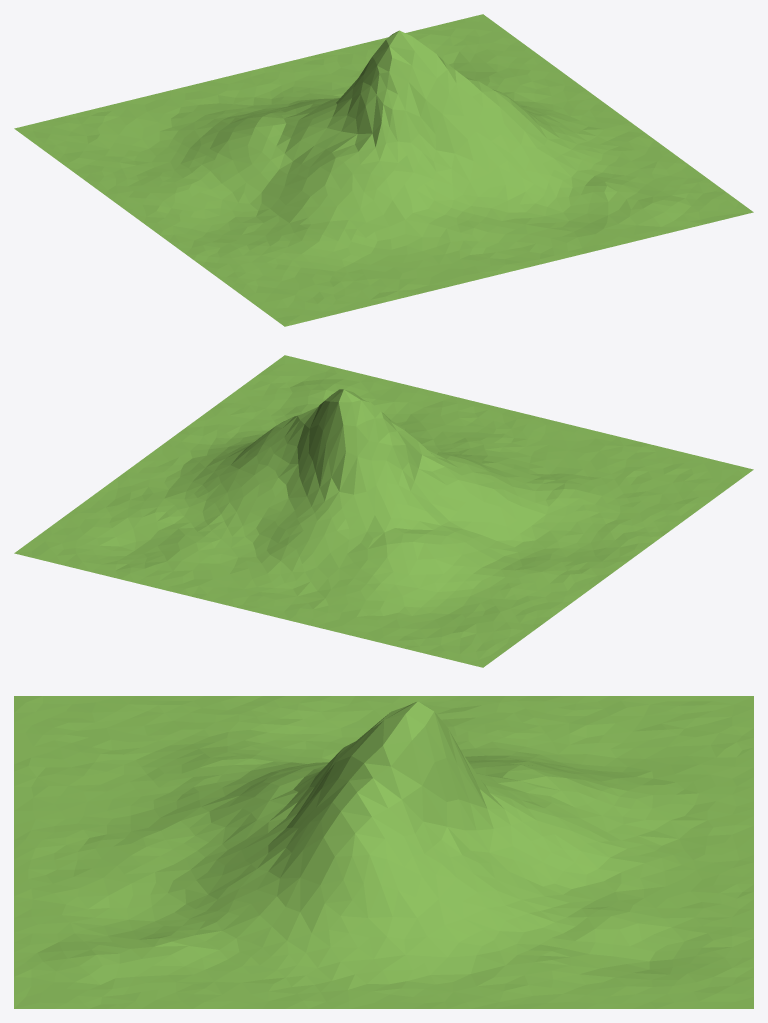
File: MT_Terrain_L_a_21_LOD.fbx
The picture shows the model from 3 angles, top to bottom: view 1: azimuth 30°, elevation 25°; view 2: azimuth 150°, elevation 25°; view 3: azimuth 270°, elevation 25°; orthographic projection. The views are drawn at different scales.
Parts seen in each view (by area): view 1: MT_Terrain_L_a_21_LOD0; view 2: MT_Terrain_L_a_21_LOD0; view 3: MT_Terrain_L_a_21_LOD0.
Part boxes in pixels (x1,y1,x2,y2): MT_Terrain_L_a_21_LOD0: [14, 14, 753, 326]; MT_Terrain_L_a_21_LOD0: [14, 355, 753, 667]; MT_Terrain_L_a_21_LOD0: [14, 696, 753, 1008].
Size of what is drawn, in the model's own units: 10000 by 2642 by 10000.
